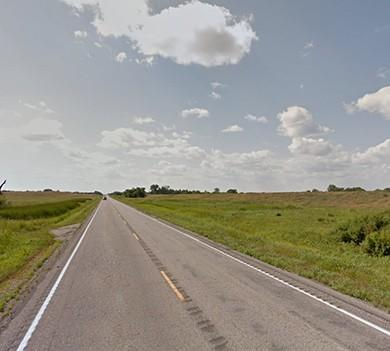cloud: (98, 0, 261, 82)
